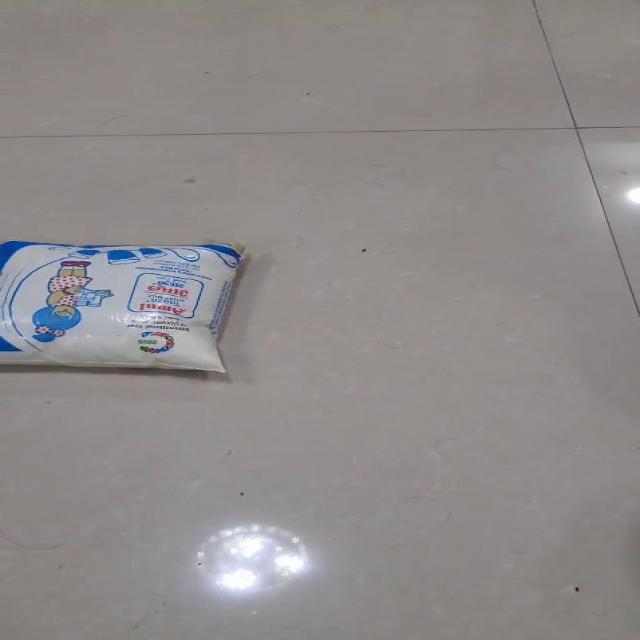plastic: (0, 238, 245, 374)
